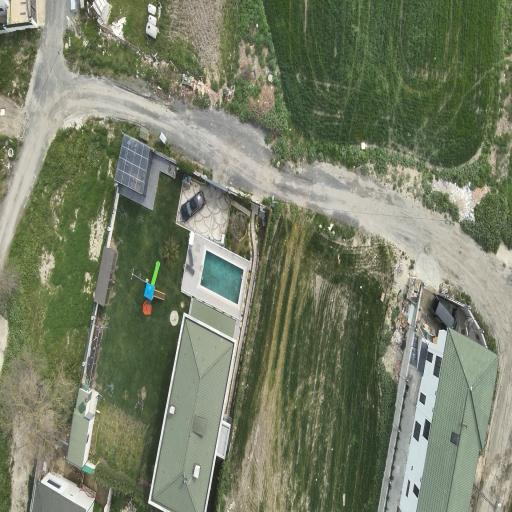car: (431, 298, 457, 328), (180, 191, 204, 220)
